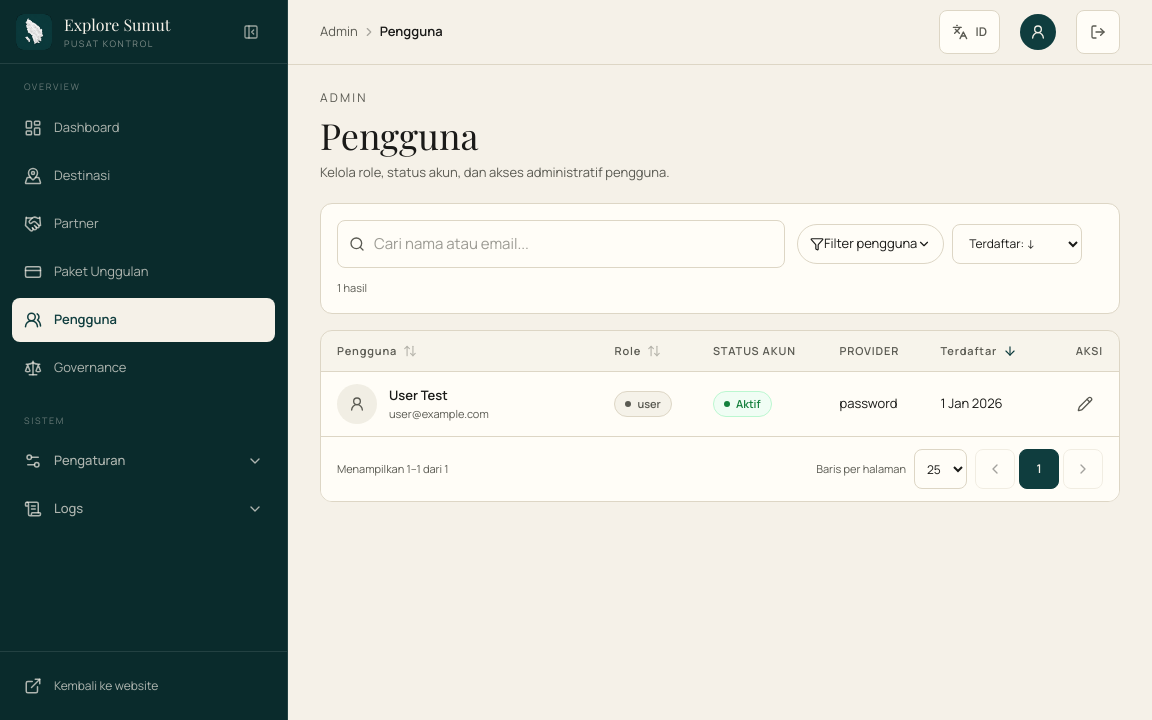
Scenario: admin shell routing › opens the user access drawer from the users table
Click the button named "Edit akses: user@example.com" at (1085, 404), box [1067,386,1103,422]
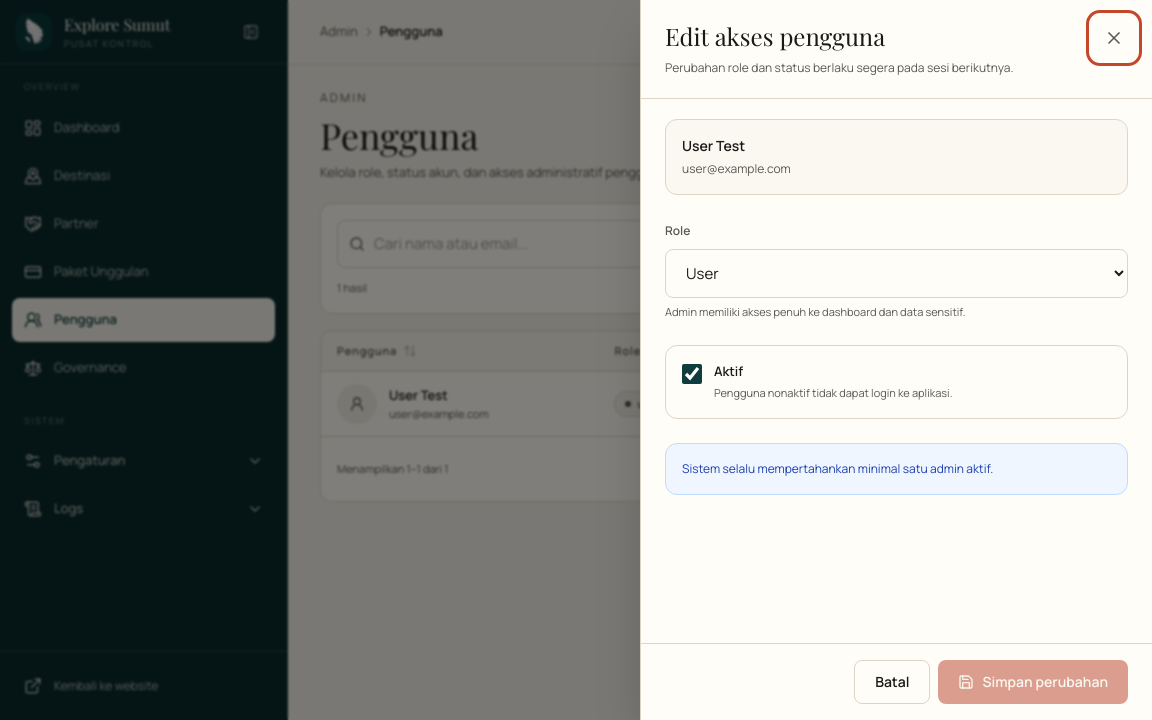
Expected: the element with test id "user-edit-drawer" is shown, [665,118,1128,494]
